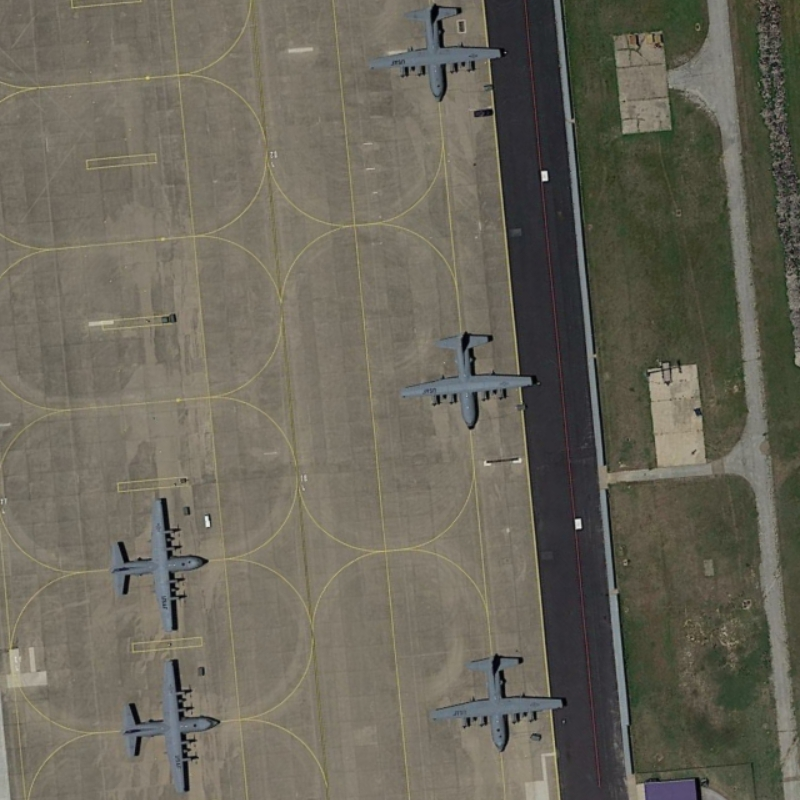A2: (421, 644, 579, 759), (103, 488, 212, 641), (393, 330, 541, 434), (116, 651, 222, 795), (365, 5, 505, 109)
